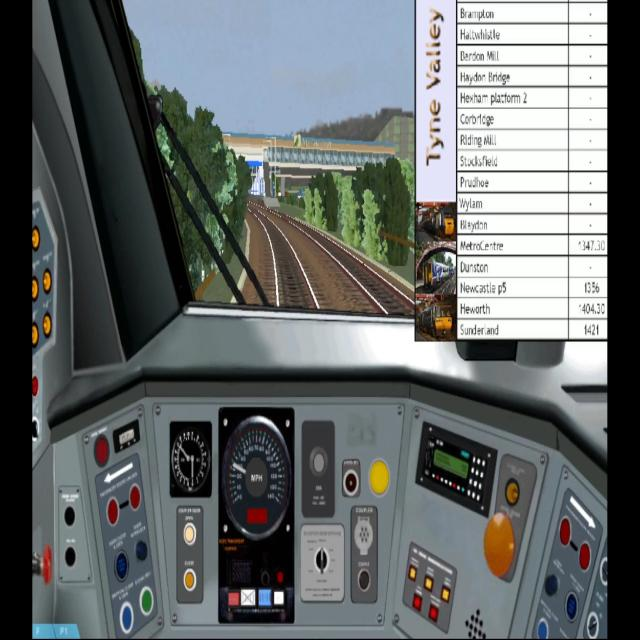Platform: (263, 196, 281, 210)
Spedometer: (219, 411, 294, 622)
Station: (221, 130, 396, 197)
Track: (279, 214, 416, 315), (249, 212, 331, 311)
